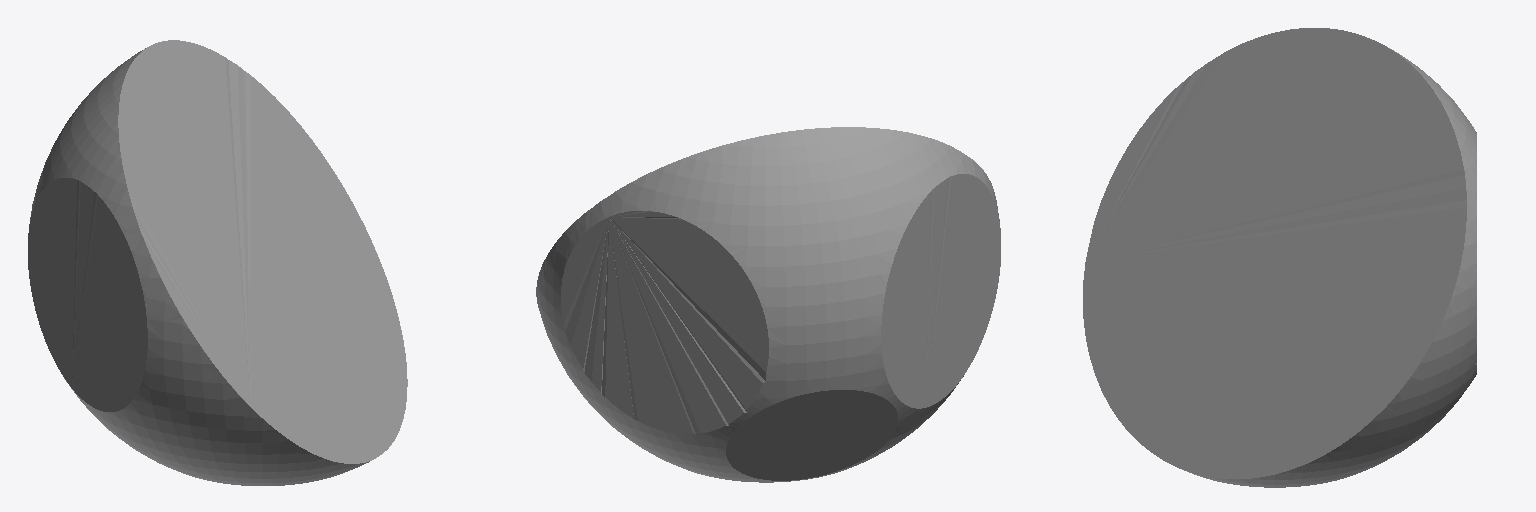
Rendered from hemisphere_clean.obj.
The picture shows the model from 3 angles: view 1: azimuth 30°, elevation 25°; view 2: azimuth 150°, elevation 25°; view 3: azimuth 270°, elevation 25°; orthographic projection.
Parts seen in each view (by area): view 1: <STL_BINARY>; view 2: <STL_BINARY>; view 3: <STL_BINARY>.
Part boxes in pixels (bbox=[...]): <STL_BINARY>: bbox=[28, 40, 407, 485]; <STL_BINARY>: bbox=[536, 127, 1000, 482]; <STL_BINARY>: bbox=[1083, 28, 1476, 487].
Bounding box in the file's own units: 0.9931 × 0.9931 × 0.9931.